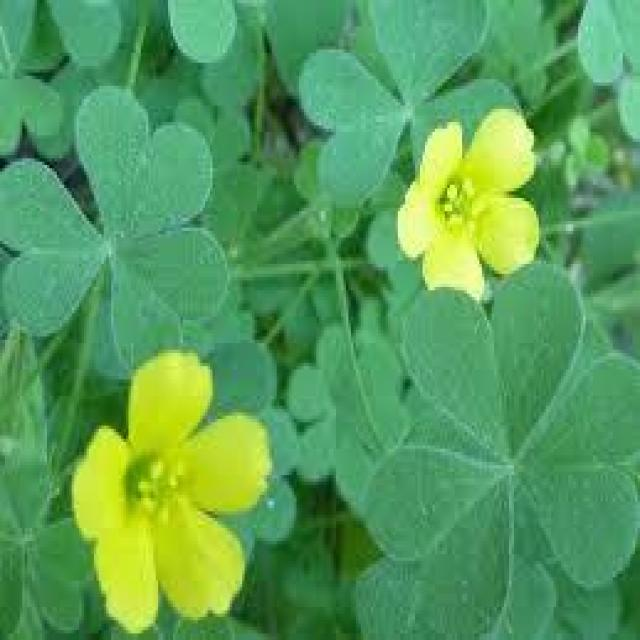organic waste: (68, 342, 273, 625), (393, 106, 551, 316)
